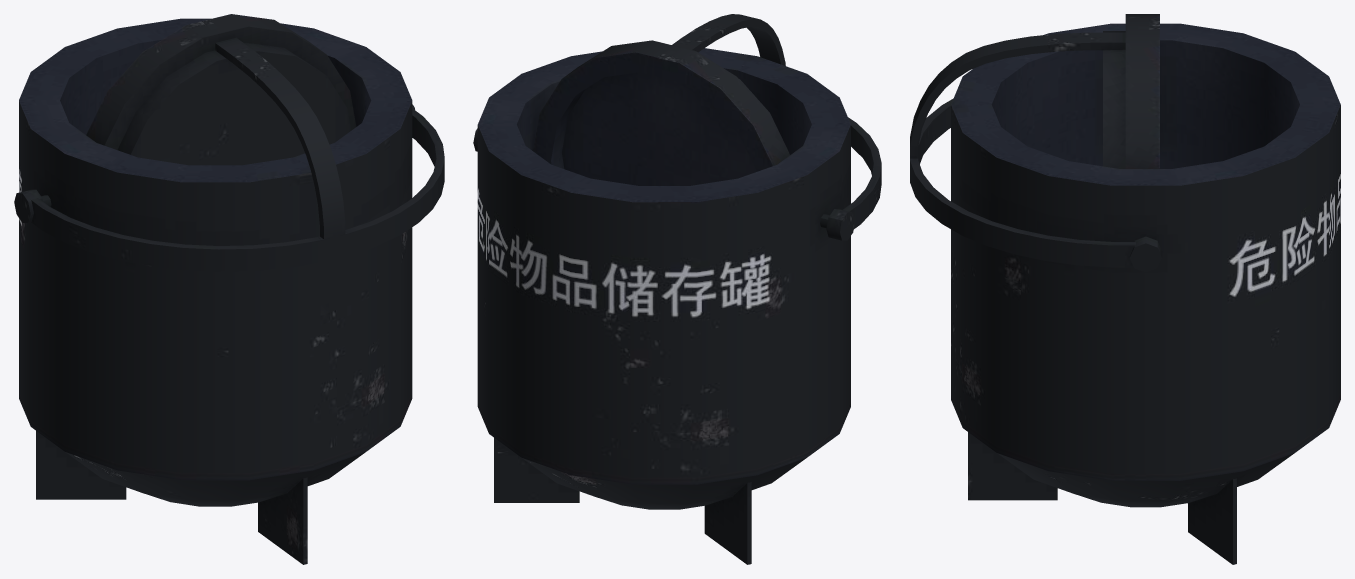
The picture shows the model from 3 angles, left to right: view 1: azimuth 30°, elevation 25°; view 2: azimuth 150°, elevation 25°; view 3: azimuth 270°, elevation 25°; orthographic projection. The views are drawn at different scales.
Visible parts, largest first — view 1: 危险物品储存罐; view 2: 危险物品储存罐; view 3: 危险物品储存罐.
Boxes of the visible parts, x1,y1,x2,y2 form: 危险物品储存罐: (14,14,444,564); 危险物品储存罐: (473,14,881,564); 危险物品储存罐: (910,14,1340,564).
Size of the model in its own units: 0.2716 by 0.3182 by 0.2645.
1 material, 1 textured.
